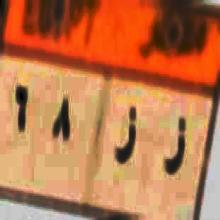6: (7, 74, 33, 138)
8: (50, 93, 77, 149)
zay: (161, 109, 194, 189), (112, 106, 142, 172)
